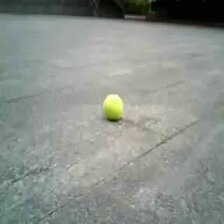tennis: (104, 93, 123, 119)
